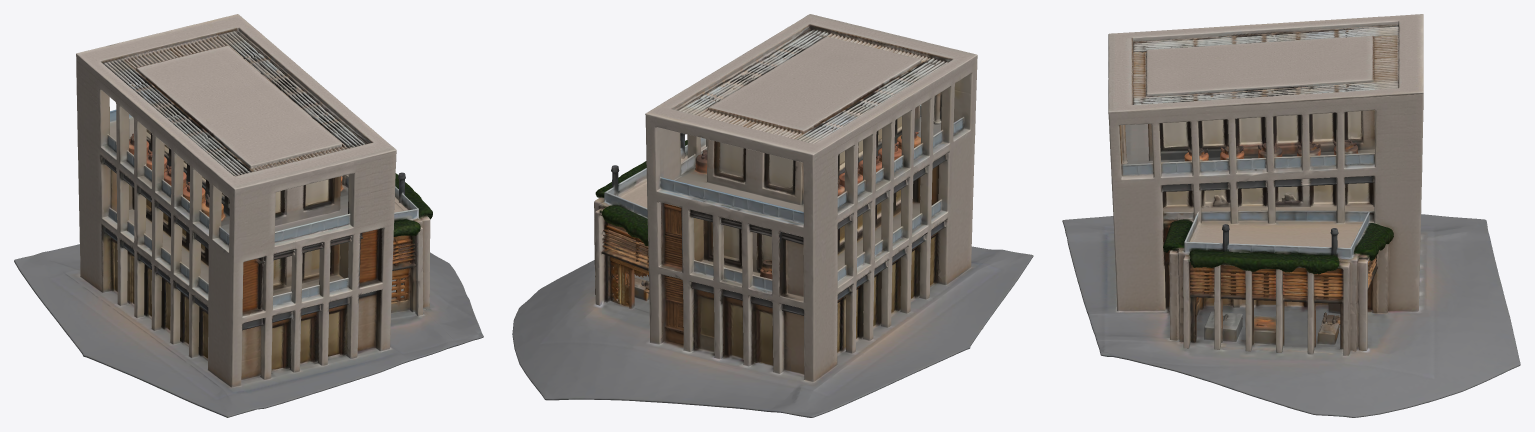
The model's file is shopblock_jewel.glb.
The picture shows the model from 3 angles, left to right: view 1: azimuth 30°, elevation 25°; view 2: azimuth 150°, elevation 25°; view 3: azimuth 270°, elevation 25°; orthographic projection. The views are drawn at different scales.
Parts seen in each view (by area): view 1: tripo_node_a7c42c4e-fc94-45e2-8fab-97f05bae58b5; view 2: tripo_node_a7c42c4e-fc94-45e2-8fab-97f05bae58b5; view 3: tripo_node_a7c42c4e-fc94-45e2-8fab-97f05bae58b5.
Boxes of the visible parts, left/top/right/bottom form: tripo_node_a7c42c4e-fc94-45e2-8fab-97f05bae58b5: left=14, top=14, right=483, bottom=417; tripo_node_a7c42c4e-fc94-45e2-8fab-97f05bae58b5: left=512, top=14, right=1033, bottom=417; tripo_node_a7c42c4e-fc94-45e2-8fab-97f05bae58b5: left=1062, top=14, right=1520, bottom=417.
Size of the model in its own units: 19.41 by 12 by 19.88.
Materials: 1 (1 with a texture image).
